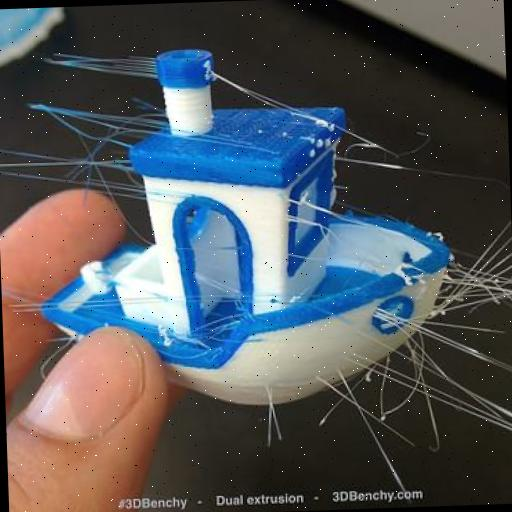stringing: (42, 42, 158, 204), (382, 320, 470, 432), (430, 225, 512, 322)
